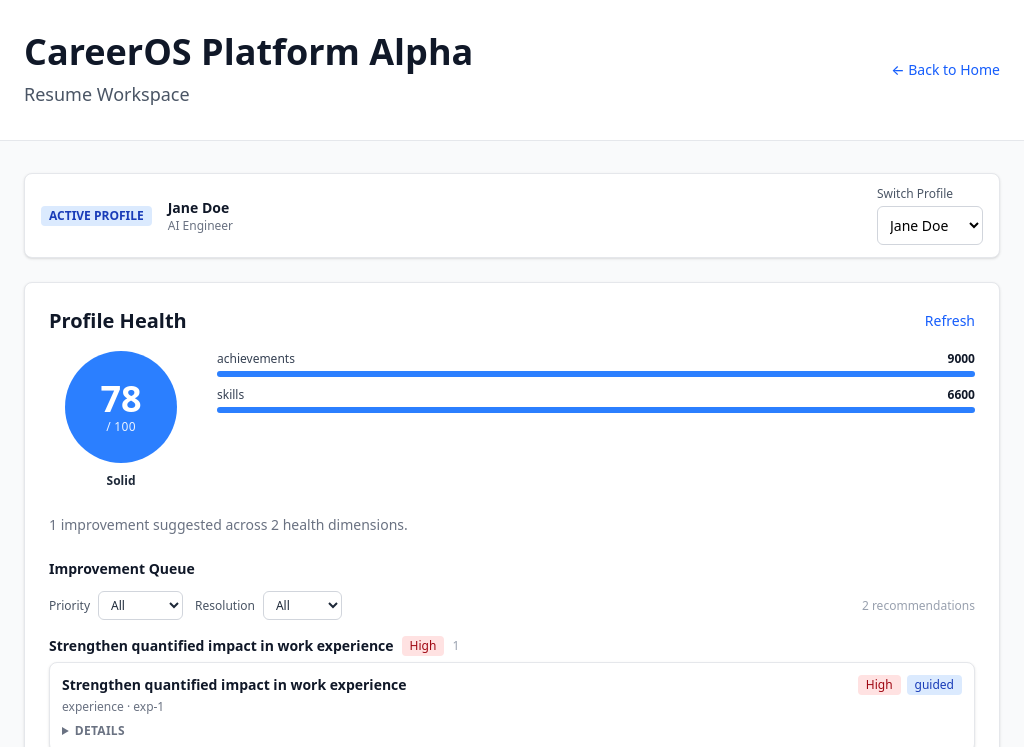
ArtifactWorkspacePage › profile switching › shows a health error for the newly selected profile when its quality report fails
The width and height of the screenshot is (1024, 747).
Expected: the element with test id "health-score" is shown, [65,351,177,463]
Select "Bob Smith" in the dropdown labelled "Switch Profile": x=930, y=226 [877,206,983,245]
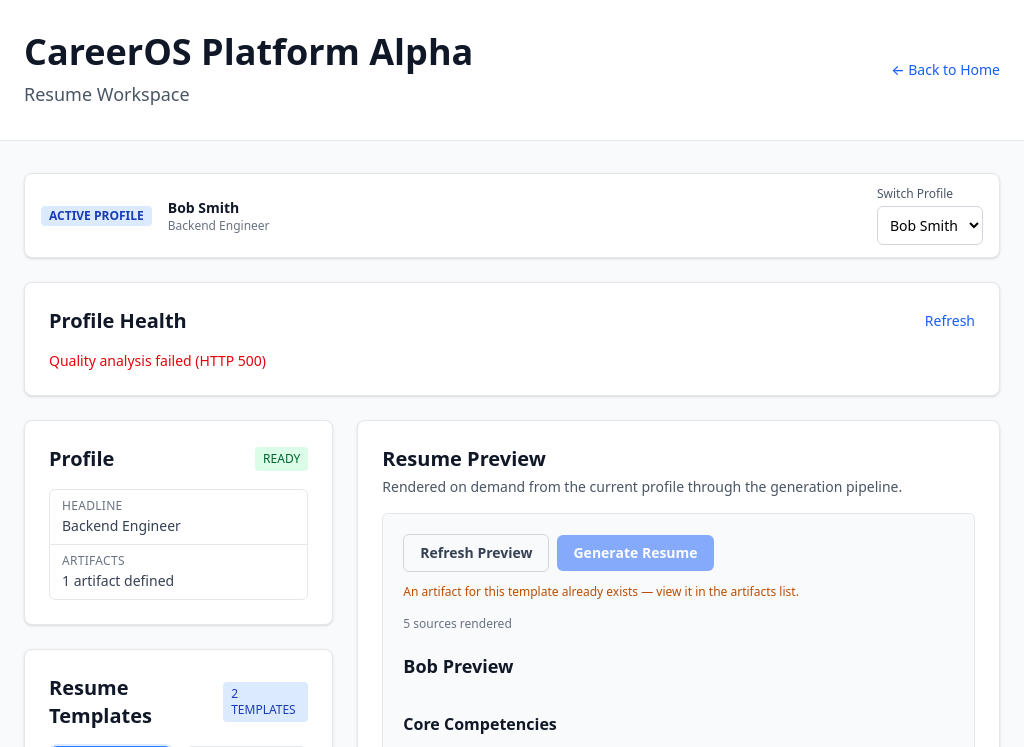
Expected: the text with test id "active-profile-name" reads "Bob Smith", [168,198,239,216]
Expected: the text with test id "health-error" reads "Quality analysis failed (HTTP 500)", [49,351,266,370]
